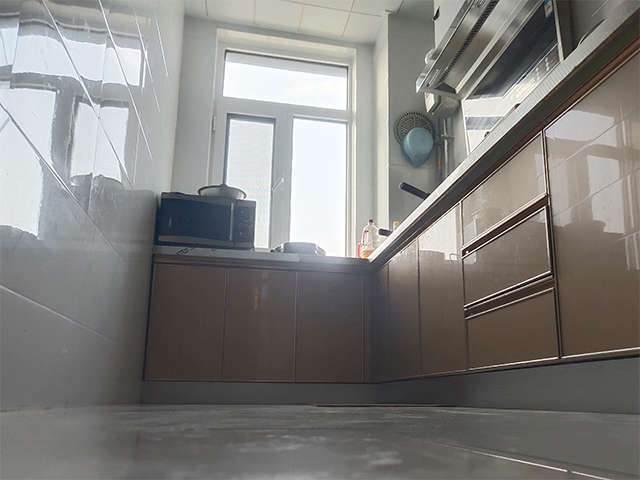cabinet: (366, 51, 640, 417), (150, 249, 367, 404)
